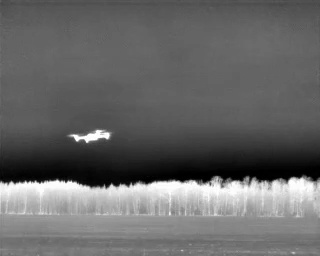DRONE: (63, 123, 118, 148)
